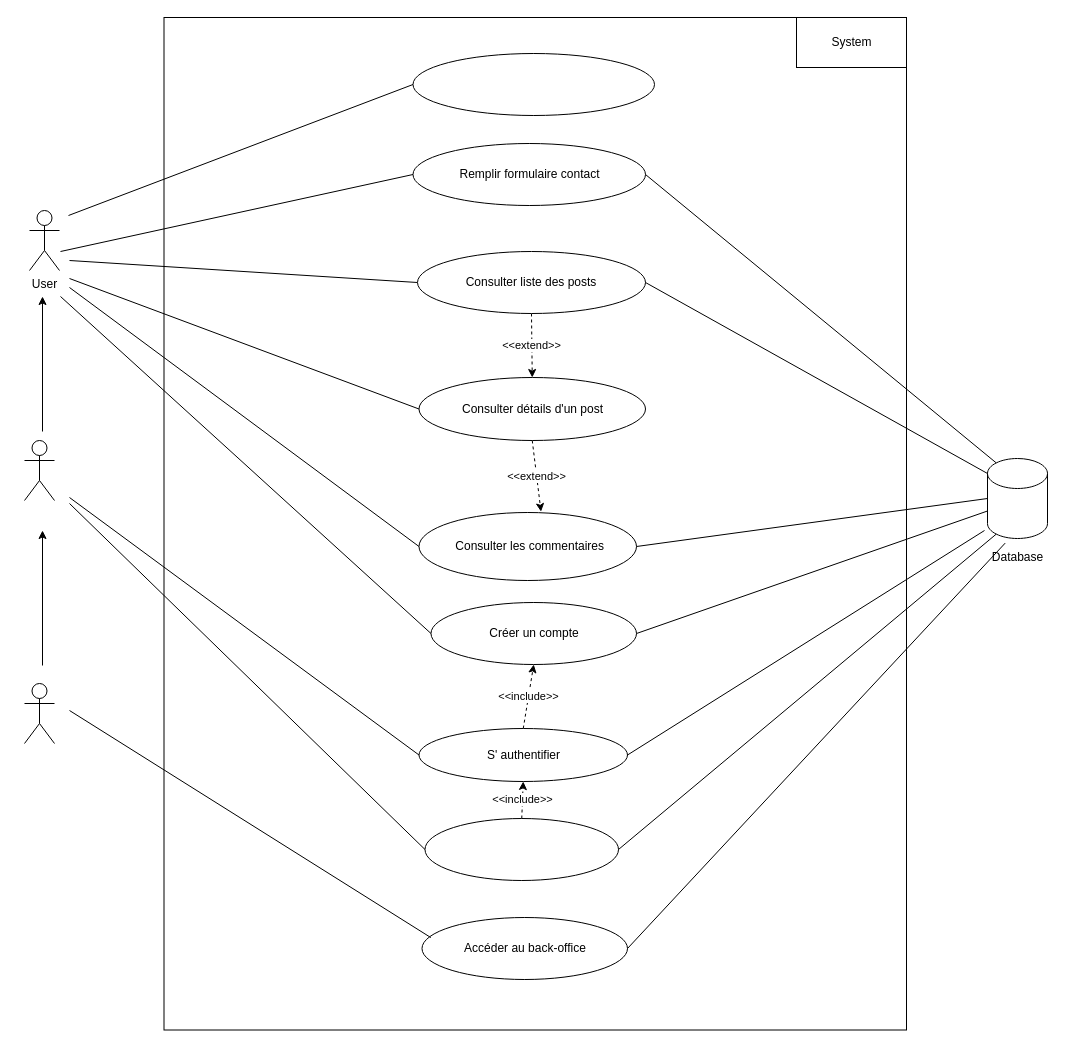
Some shapes in this 1066 by 1048 pixel diagram are drawn without their labels. The shapes that lost their labels are listed below. From the top down, each one's centre as x and y in pixels, then its label:
point 533,84: Télécharger CV
point 39,470: Member
point 39,713: Admin
point 521,849: Laisser un commentaire
